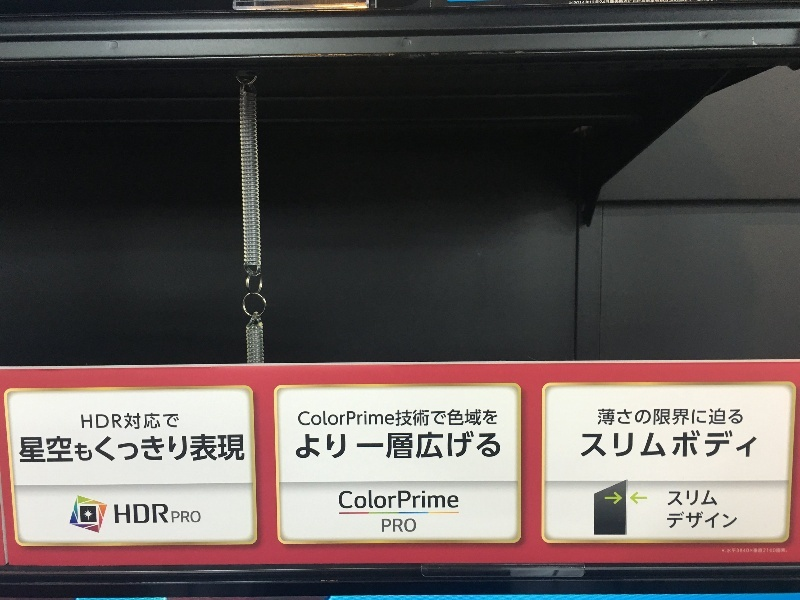text: (305, 431, 320, 461), (321, 431, 336, 461), (337, 431, 352, 461), (353, 431, 368, 461), (369, 431, 384, 461), (385, 431, 400, 461), (401, 431, 416, 461), (417, 431, 432, 461), (433, 431, 448, 461), (449, 431, 464, 461), (465, 431, 480, 461), (481, 431, 496, 461), (17, 435, 32, 464), (33, 435, 48, 464), (49, 435, 64, 464), (65, 435, 80, 464), (81, 435, 96, 464), (97, 435, 112, 464), (113, 435, 128, 464), (129, 435, 144, 464), (145, 435, 160, 464), (161, 435, 176, 464), (177, 435, 192, 464), (193, 435, 208, 464), (209, 435, 224, 464), (225, 435, 240, 464), (593, 429, 608, 458), (609, 429, 624, 458), (625, 429, 640, 458), (641, 429, 656, 458), (657, 429, 672, 458), (673, 429, 688, 458), (689, 429, 704, 458), (705, 429, 720, 458), (721, 429, 736, 458), (737, 429, 752, 458), (129, 505, 144, 525), (145, 505, 160, 525), (161, 505, 176, 525), (177, 505, 192, 525), (294, 431, 304, 461), (353, 490, 368, 510), (369, 490, 384, 510), (385, 490, 400, 510), (401, 490, 416, 510), (417, 490, 432, 510), (433, 490, 448, 510), (81, 412, 96, 431), (97, 412, 112, 431), (113, 412, 128, 431), (129, 412, 144, 431), (145, 412, 160, 431), (161, 412, 176, 431), (114, 505, 128, 525), (338, 490, 352, 510), (305, 410, 320, 428), (321, 410, 336, 428), (337, 410, 352, 428), (353, 410, 368, 428), (369, 410, 384, 428), (385, 410, 400, 428), (401, 410, 416, 428), (417, 410, 432, 428), (433, 410, 448, 428), (449, 410, 464, 428), (465, 410, 480, 428), (481, 410, 496, 428), (673, 511, 688, 529), (689, 511, 704, 529), (705, 511, 720, 529), (721, 511, 736, 529), (583, 429, 592, 458), (609, 409, 624, 426), (625, 409, 640, 426), (641, 409, 656, 426), (657, 409, 672, 426), (673, 409, 688, 426), (689, 409, 704, 426), (705, 409, 720, 426), (721, 409, 736, 426), (673, 490, 688, 506), (689, 490, 704, 506), (401, 519, 417, 533), (449, 490, 460, 510), (385, 519, 400, 533), (705, 490, 718, 506), (193, 505, 202, 525), (598, 409, 608, 426), (497, 431, 502, 461), (753, 429, 758, 458), (297, 410, 304, 428), (665, 511, 672, 529), (737, 409, 744, 426), (241, 435, 245, 464), (177, 412, 180, 431), (669, 490, 672, 506), (497, 410, 499, 428), (382, 519, 384, 533), (737, 511, 738, 529)
